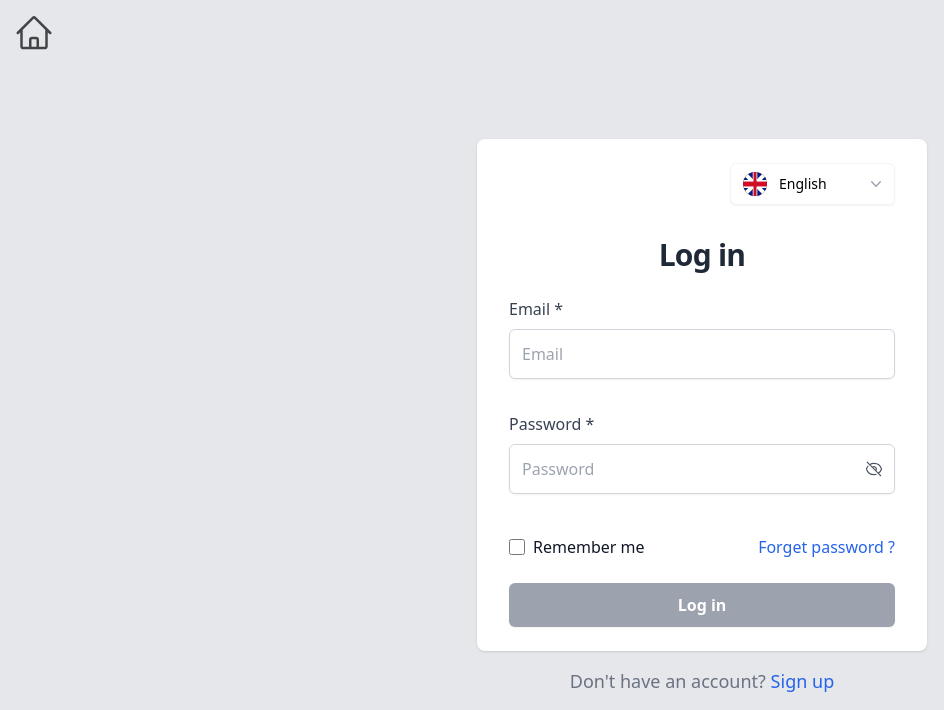
Scenario: Log in page › Should change language after select different language from the language selector
Click the button with test id "language-selector": [813, 184] box [730,163,895,205]
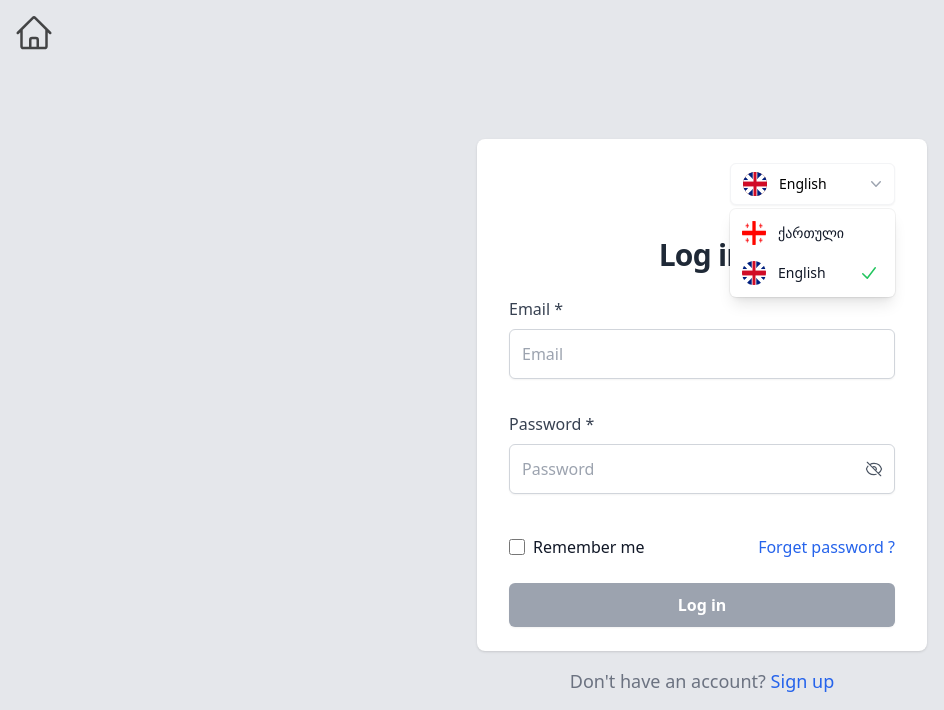
Click the option with test id "ka": [793, 233] box [742,221,844,245]
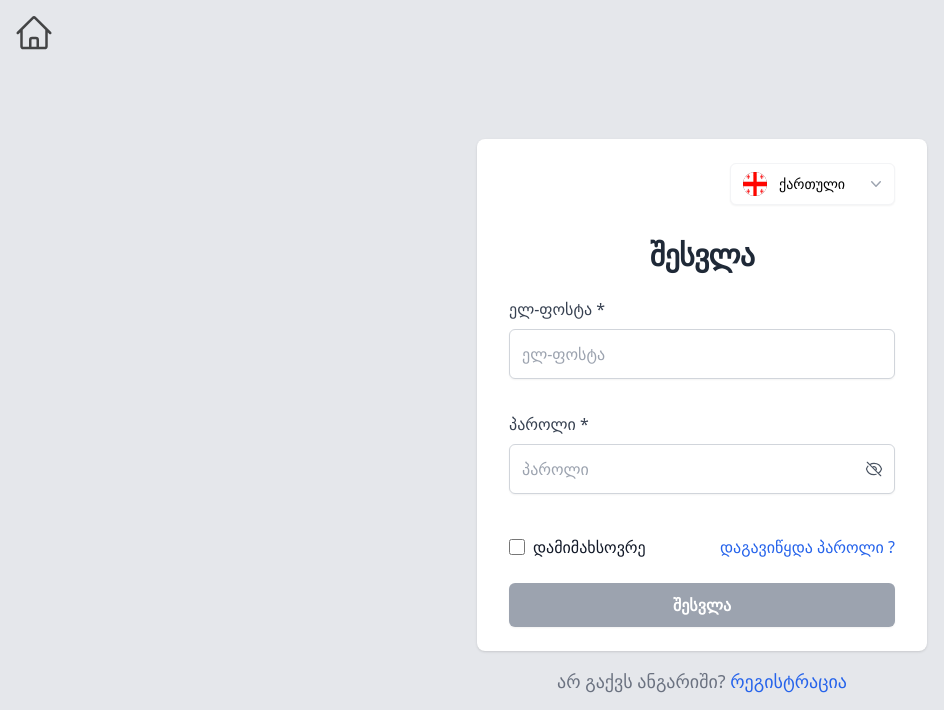
Now the label with test id "email-label" shows "ელ-ფოსტა", box [509,298,605,320]
Now the label with test id "password-label" shows "პაროლი", box [509,413,589,435]
Now the text with test id "log-in-button" reads "შესვლა", box [673,594,731,616]
